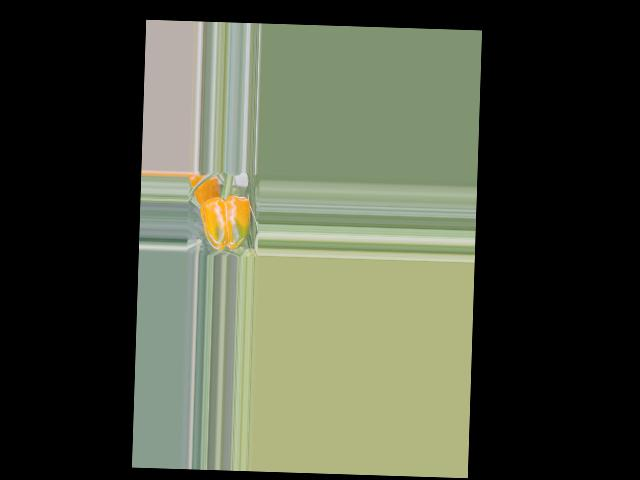bell_pepper: (197, 188, 257, 255)
